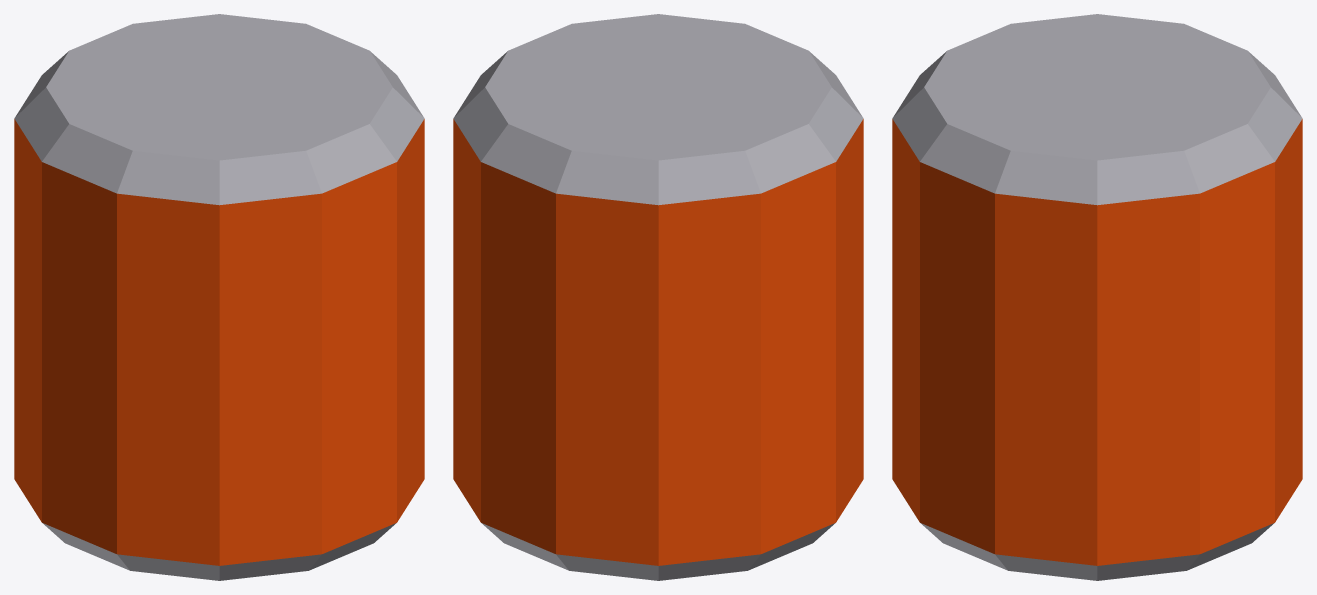
File: can.gltf
The picture shows the model from 3 angles, left to right: view 1: azimuth 30°, elevation 25°; view 2: azimuth 150°, elevation 25°; view 3: azimuth 270°, elevation 25°; orthographic projection.
Visible parts, largest first — view 1: Cylinder; view 2: Cylinder; view 3: Cylinder.
Part boxes in pixels (box(x1,y1,x2,y2)): Cylinder: box(14, 14, 424, 580); Cylinder: box(453, 14, 863, 580); Cylinder: box(892, 14, 1302, 580).
Bounding box in the file's own units: 0.8 × 0.9 × 0.8.
